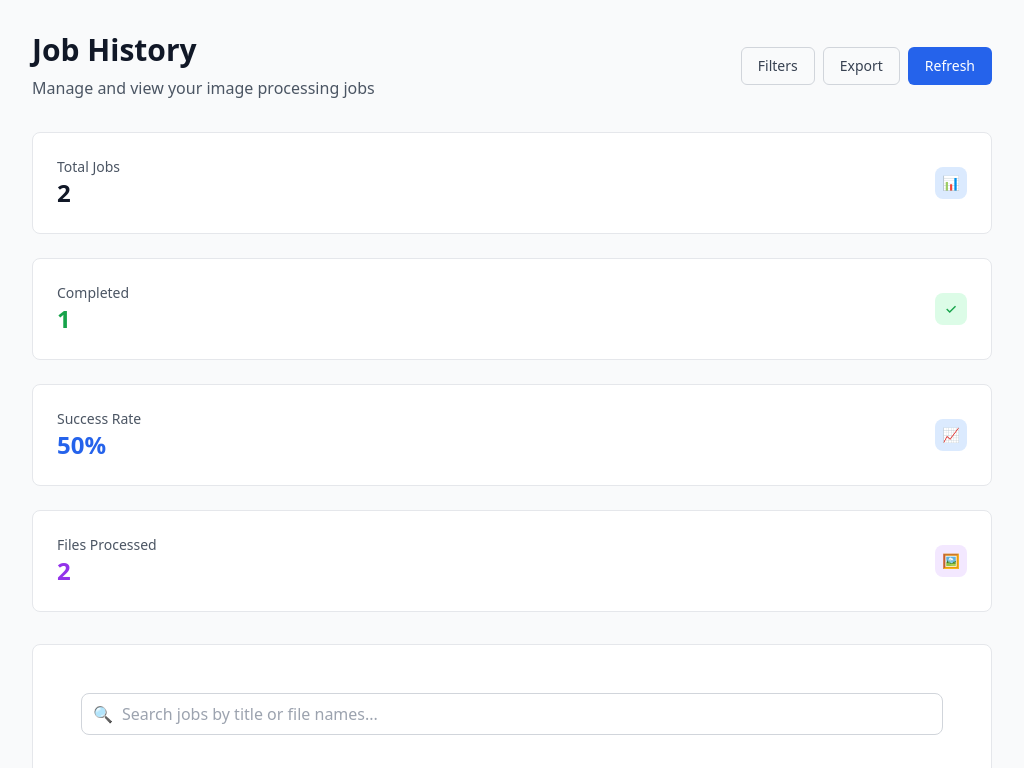
Test: JobHistory Component › Export Functionality › should show export modal when export button is clicked
Click the button "Export" at (861, 66), box [823, 47, 900, 85]
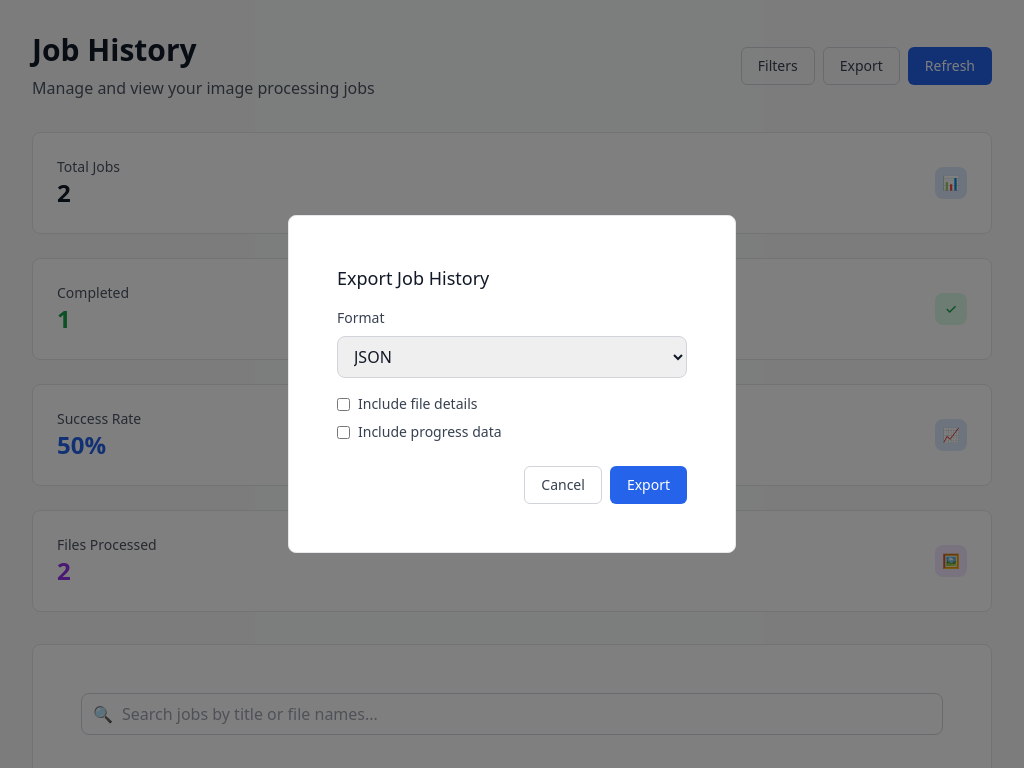
Result: the heading "Export Job History" is shown at [337, 266, 489, 290]
Result: the text "Format" is shown at [337, 308, 384, 327]
Result: the text "Include file details" is shown at [358, 394, 478, 414]
